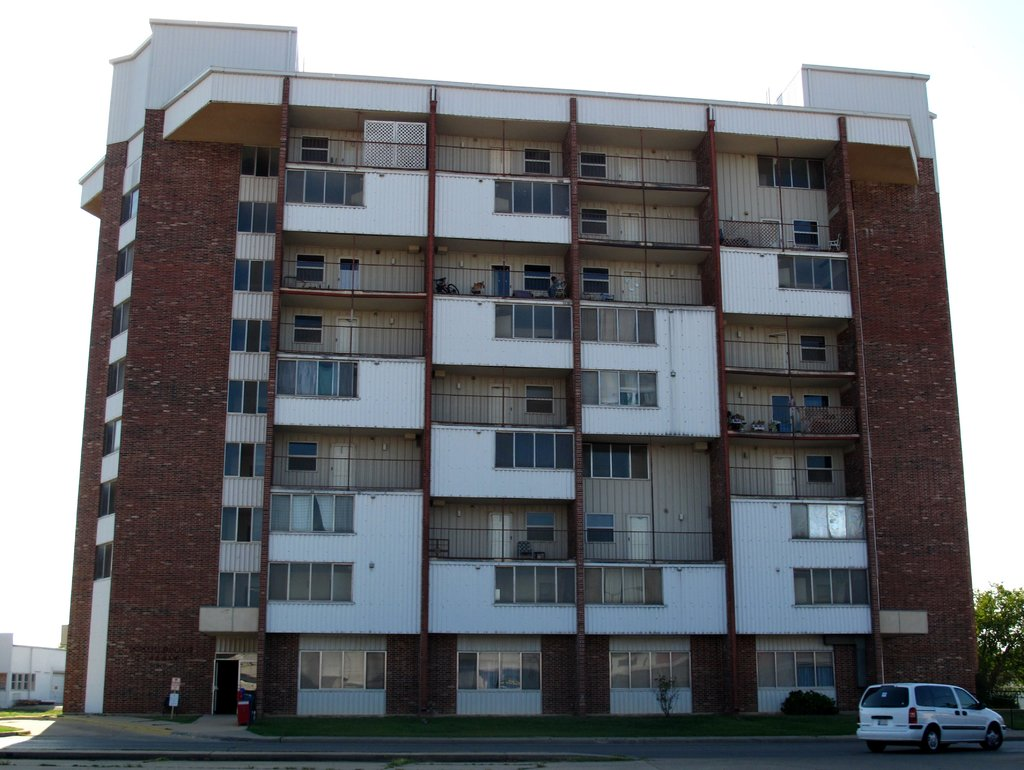Car: (855, 682, 1006, 752)
